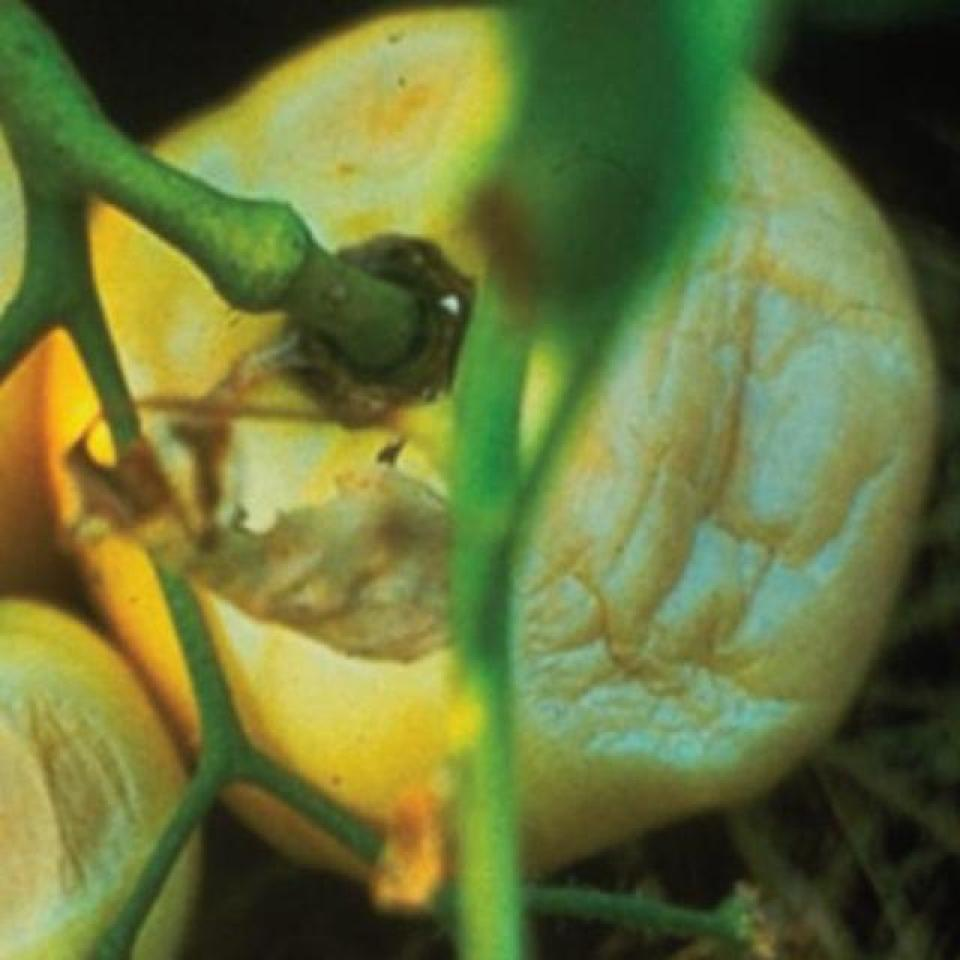Sunscald: (411, 95, 917, 806), (1, 610, 182, 960)
